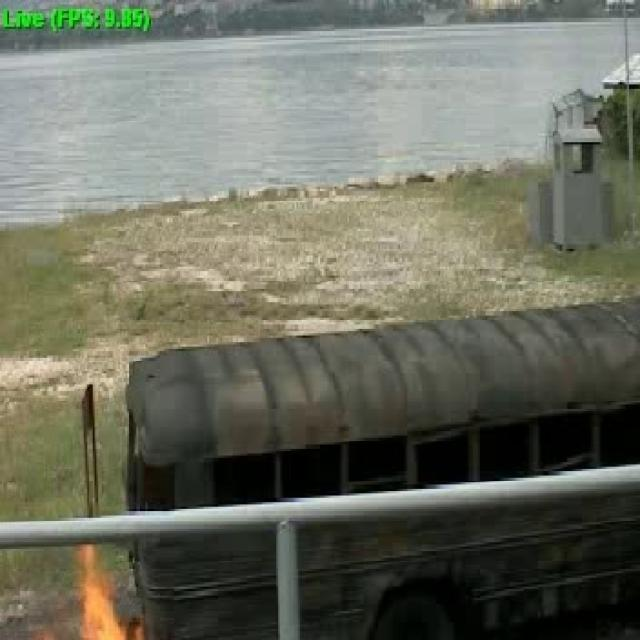Fire: (56, 554, 130, 640)
